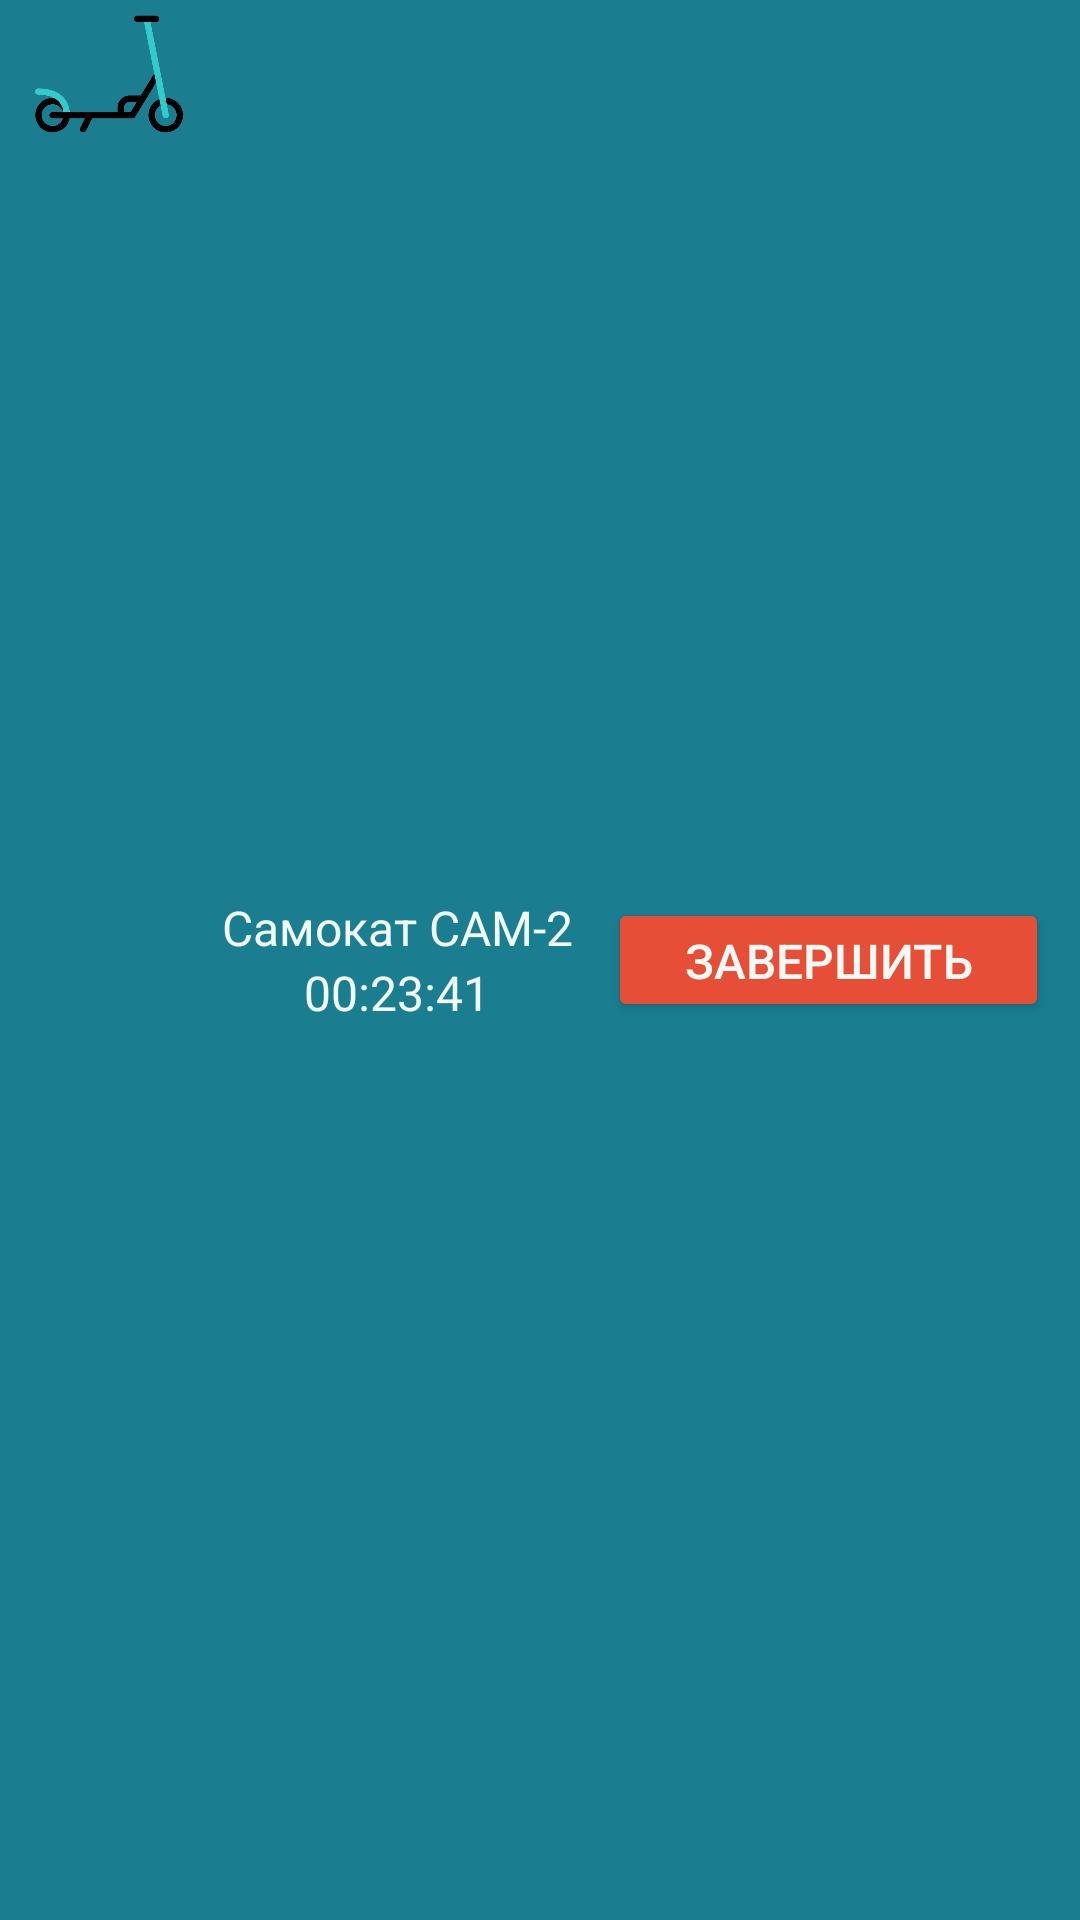

Locate icon controls on the screen. Image size 1080px×1920px, boxes as (x1, y1, x2, y2).
current scooter: (35, 15, 183, 133)
